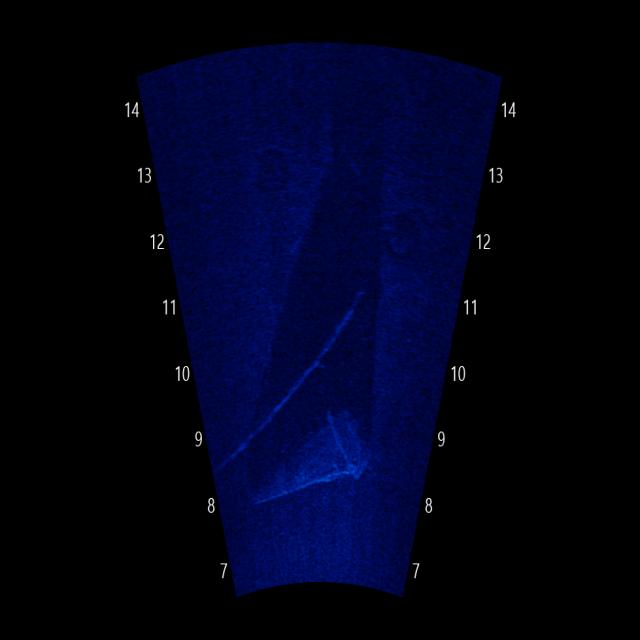triangle: (244, 379, 366, 524)
